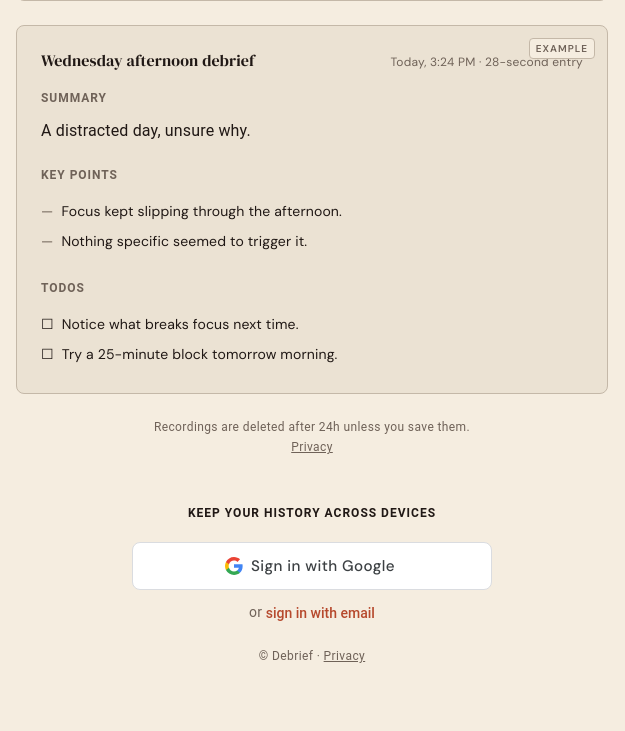
Test case: LandingPage — email code form › opens an email field when the email sign-in link is clicked
This screenshot has width=625, height=731.
(page scrolled)
What coordinates should you click on to do the following:
click the button "sign in with email"
I would click on:
 (320, 613)
Its box is [266,603,375,623].
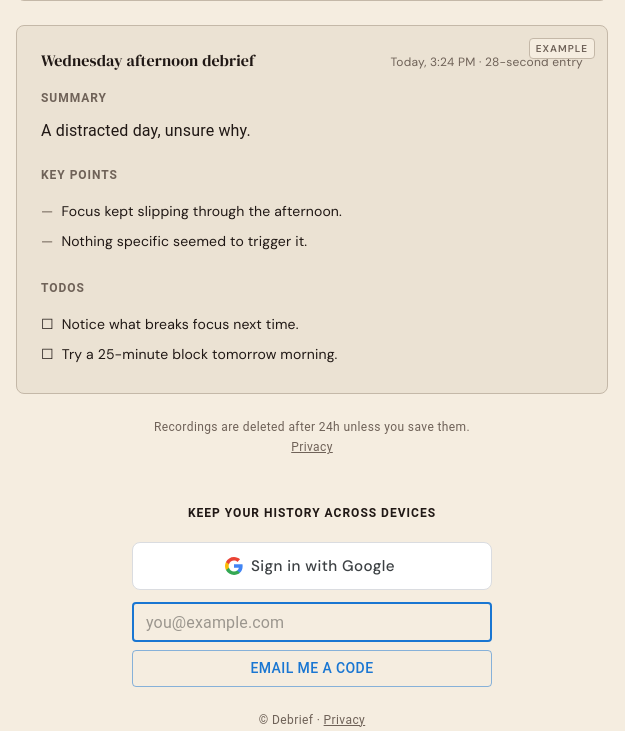
expect the field with placeholder "you@example.com" is shown: met, box [132,602,492,642]
expect the button "Email me a code" is shown: met, box [132,650,492,687]
